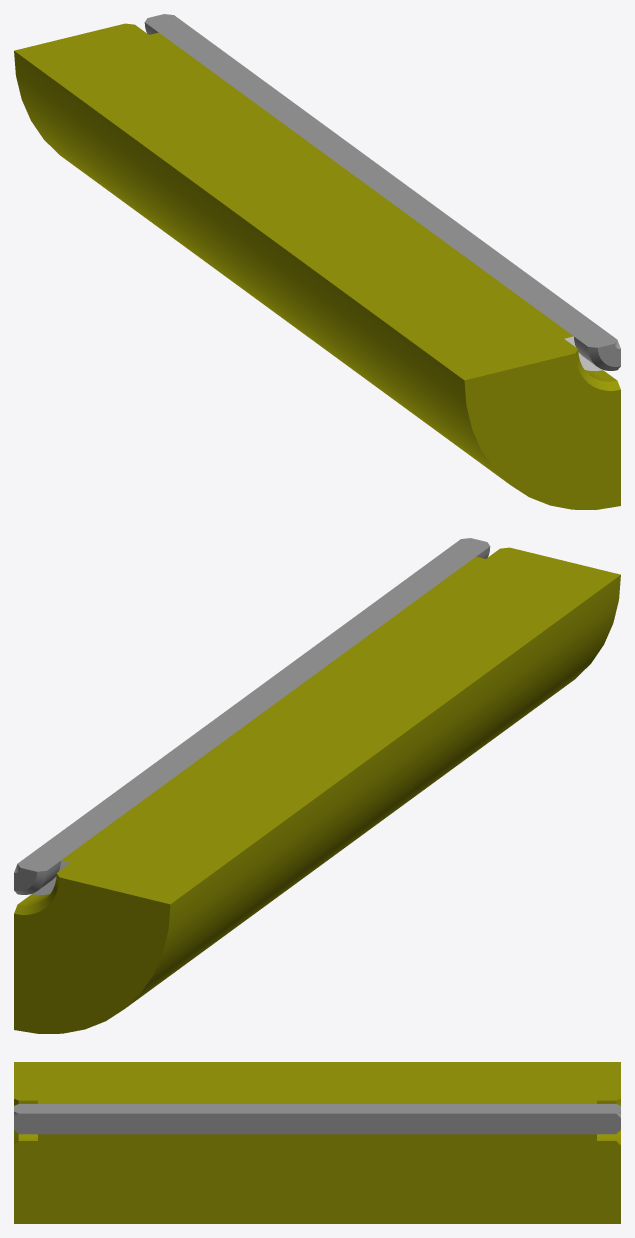
The model's file is Mesh_Levelblock_Curve_Connection.FBX.
The picture shows the model from 3 angles, top to bottom: view 1: azimuth 30°, elevation 25°; view 2: azimuth 150°, elevation 25°; view 3: azimuth 270°, elevation 25°; orthographic projection. The views are drawn at different scales.
Parts seen in each view (by area): view 1: Mesh_BlockCurve1; view 2: Mesh_BlockCurve1; view 3: Mesh_BlockCurve1.
Boxes of the visible parts, x1,y1,x2,y2 form: Mesh_BlockCurve1: (14,14,620,509); Mesh_BlockCurve1: (14,538,620,1033); Mesh_BlockCurve1: (14,1062,620,1223).
Bounding box in the file's own units: 2 × 2 × 9.97.
